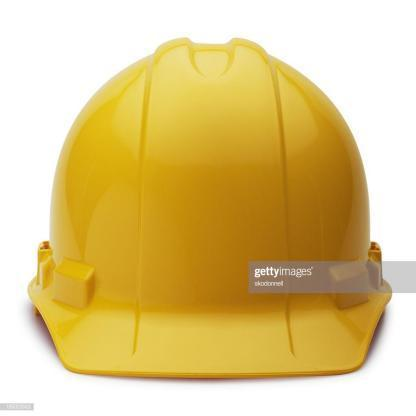helmet: (36, 34, 389, 379)
